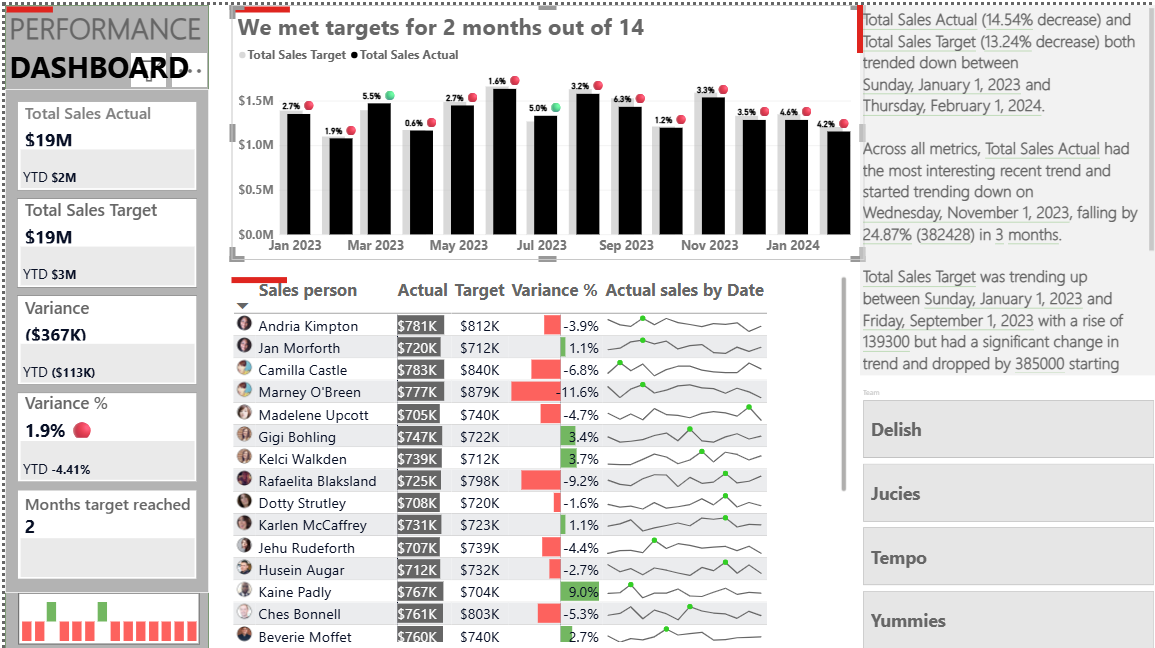

Layout of this report page (visuals, bound fields, positions):
{"tool":"powerbi","page":{"name":"Page 1","canvas":[1920,1080],"ordinal":0},"visuals":[{"type":"shape","box":[0,0,340,1080],"z":0},{"type":"group","id":"g1","title":"Group 2","box":[375,447.5,1032.5,617.5],"z":0,"group":"g2"},{"type":"cardVisual","fields":{"Data":["Measures Table.Total Sales Actual","Measures Table.Total Sales Target","Measures Table.Variance","Measures Table.Variance pict label","Measures Table.Months target reached"]},"box":[0,140,340,840],"z":1000},{"type":"clusteredColumnChart","fields":{"Category":["Calendar.Date"],"Y":["Measures Table.Target status"]},"box":[21.9,978.8,301.2,85],"z":2000},{"type":"textbox","box":[1425,0,495,617.5],"z":3000,"group":"g6"},{"type":"clusteredColumnChart","fields":{"Category":["Calendar.Date"],"Y":["Measures Table.Total Sales Target","Measures Table.Total Sales Actual"]},"box":[382.5,10,1050,415],"z":3000,"group":"g3"},{"type":"tableEx","fields":{"Values":["dimPeople.Picture","dimPeople.Sales person","Measures Table.Total Sales Actual","Measures Table.Total Sales Target","Measures Table.Variance %","SparklineData(Measures Table.Total Sales Actual_[Calendar.Date])"]},"box":[375,447.5,1032.5,617.5],"z":4000,"group":"g5"},{"type":"advancedSlicerVisual","fields":{"Values":["dimPeople.Team"]},"box":[1425,637.5,495,442.5],"z":4000},{"type":"group","id":"g2","title":"Group 3","box":[375,447.5,1032.5,617.5],"z":5000},{"type":"group","id":"g3","title":"Group 4","box":[377.5,0,1055,425],"z":6000},{"type":"group","id":"g4","title":"Group 1","box":[2.5,0,340,237.5],"z":7000},{"type":"textbox","box":[2.5,0,340,237.5],"z":7000,"group":"g4"},{"type":"shape","box":[1370,0,110,80],"z":7001,"group":"g6"},{"type":"group","id":"g5","title":"Group 5","box":[375,447.5,1032.5,617.5],"z":7001,"group":"g1"},{"type":"group","id":"g6","title":"Group 6","box":[1370,0,550,617.5],"z":7002},{"type":"shape","box":[377.5,0,97.5,15],"z":8000,"group":"g3"},{"type":"shape","box":[377.5,452.5,92.5,12],"z":9000,"group":"g5"},{"type":"shape","box":[2.5,0,77.5,15],"z":9001,"group":"g4"}]}

Visuals, with their boxes in screenshot pixels (x1, y1, x2, y2), scaled from the page's 1920x1080 canvas onto the 1155x648 screenshot:
shape: <region>0, 0, 205, 647</region>
"Group 2" group: <region>226, 268, 847, 639</region>
cardVisual - Measures Table.Total Sales Actual x Measures Table.Total Sales Target: <region>0, 84, 205, 588</region>
clusteredColumnChart - Calendar.Date x Measures Table.Target status: <region>13, 587, 194, 638</region>
textbox: <region>857, 0, 1154, 370</region>
clusteredColumnChart - Calendar.Date x Measures Table.Total Sales Target: <region>230, 6, 862, 255</region>
tableEx - dimPeople.Picture x dimPeople.Sales person: <region>226, 268, 847, 639</region>
advancedSlicerVisual - dimPeople.Team: <region>857, 382, 1154, 647</region>
"Group 3" group: <region>226, 268, 847, 639</region>
"Group 4" group: <region>227, 0, 862, 255</region>
"Group 1" group: <region>2, 0, 206, 142</region>
textbox: <region>2, 0, 206, 142</region>
shape: <region>824, 0, 890, 48</region>
"Group 5" group: <region>226, 268, 847, 639</region>
"Group 6" group: <region>824, 0, 1154, 370</region>
shape: <region>227, 0, 286, 9</region>
shape: <region>227, 272, 283, 279</region>
shape: <region>2, 0, 48, 9</region>
